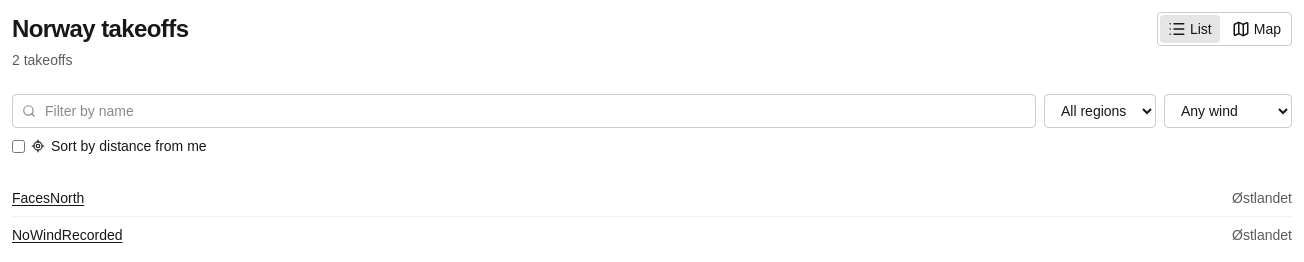
Test case: TakeoffDirectory — wind filter › excludes a site with no recorded wind and surfaces the exclusion, not silently
Expected: the link "NoWindRecorded" is shown, [12, 225, 122, 245]
Select "Works in N" in the dropdown named "wind direction". click: {"x": 1228, "y": 111}
box: [1164, 94, 1292, 128]
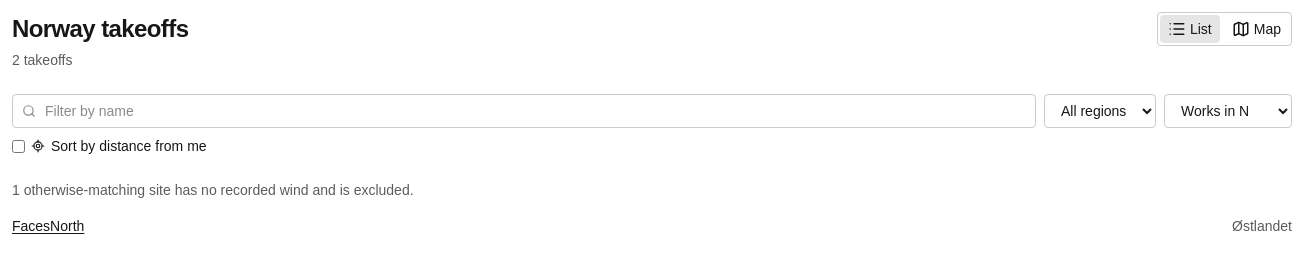
Result: the link "NoWindRecorded" is gone
Result: the text "1 otherwise-matching site has no recorded wind and is excluded" is shown at [12, 182, 414, 198]
